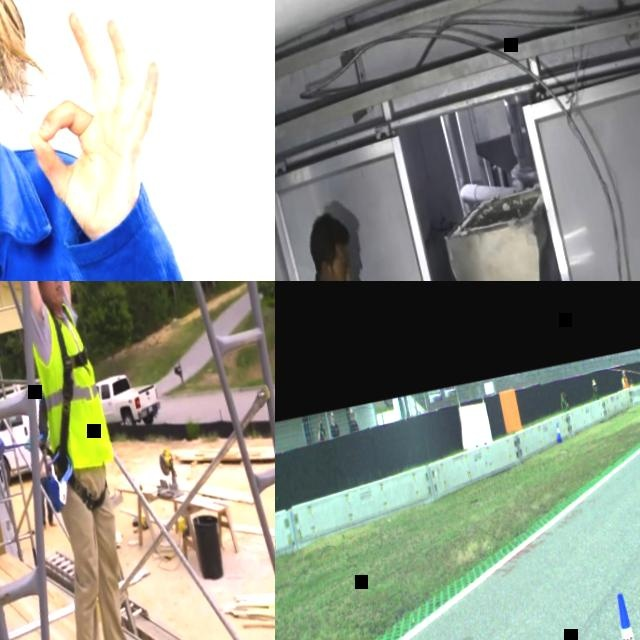NO-Hardhat: (308, 214, 353, 261), (561, 386, 565, 393), (593, 381, 597, 387), (623, 373, 626, 378)
NO-Mask: (43, 281, 68, 309)
NO-Safety Vest: (0, 124, 124, 281), (561, 395, 569, 411), (592, 386, 599, 399)
Person: (0, 0, 218, 281), (0, 281, 165, 640), (280, 205, 447, 281), (558, 383, 571, 413), (590, 379, 600, 400), (621, 372, 629, 390), (630, 380, 635, 389)
Safety Cone: (603, 590, 640, 640), (556, 424, 563, 443)
Safety Vest: (26, 301, 120, 477), (623, 377, 630, 390), (630, 383, 634, 389)
vehicle: (0, 382, 59, 484), (95, 368, 165, 434)
